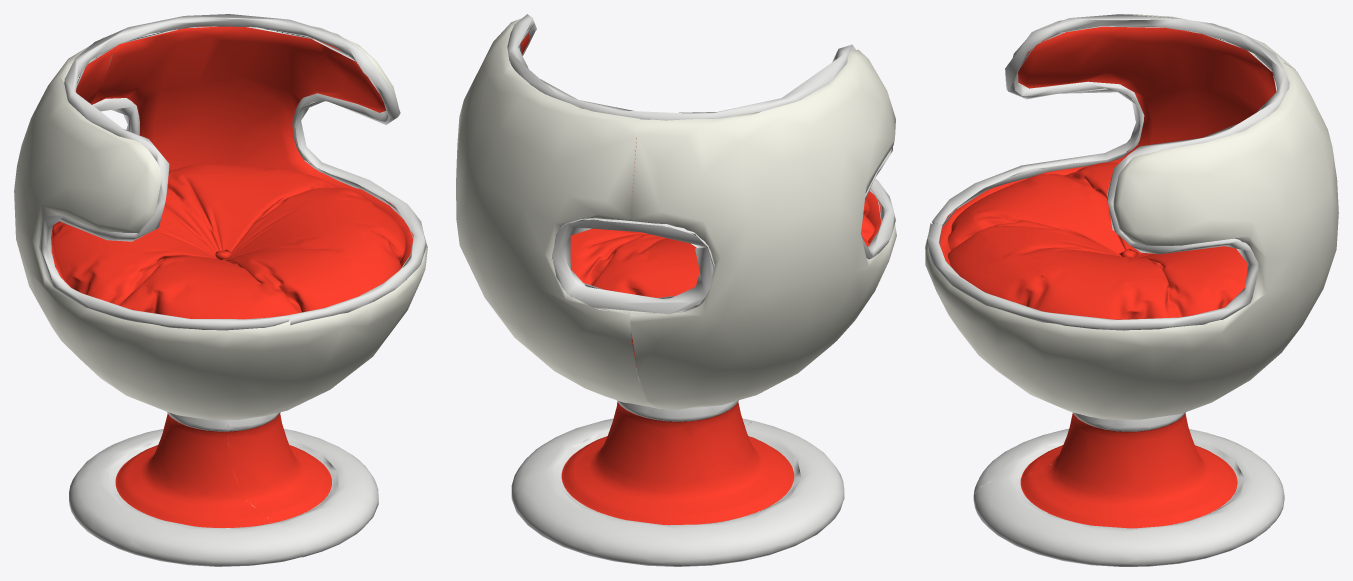
File: round-chair.glb
3 renders of one model, left to right at view 1: azimuth 30°, elevation 25°; view 2: azimuth 150°, elevation 25°; view 3: azimuth 270°, elevation 25°, orthographic. The views are drawn at different scales.
Visible parts, largest first — view 1: Cylinder_Leather_0, Sphere_White_Plastic_0, Sphere_002_Chrome_0; view 2: Sphere_White_Plastic_0, Sphere_002_Chrome_0, Cylinder_Leather_0; view 3: Cylinder_Leather_0, Sphere_White_Plastic_0, Sphere_002_Chrome_0.
Boxes of the visible parts, left/top/right/bottom form: Cylinder_Leather_0: left=51, top=26, right=413, bottom=527; Sphere_White_Plastic_0: left=14, top=26, right=427, bottom=420; Sphere_002_Chrome_0: left=38, top=14, right=426, bottom=566; Sphere_White_Plastic_0: left=456, top=18, right=896, bottom=409; Sphere_002_Chrome_0: left=507, top=14, right=895, bottom=566; Cylinder_Leather_0: left=520, top=33, right=882, bottom=525; Cylinder_Leather_0: left=938, top=26, right=1276, bottom=528; Sphere_White_Plastic_0: left=925, top=14, right=1338, bottom=419; Sphere_002_Chrome_0: left=927, top=14, right=1289, bottom=566.
Size of the model in its own units: 0.7055 by 0.8 by 0.706.
